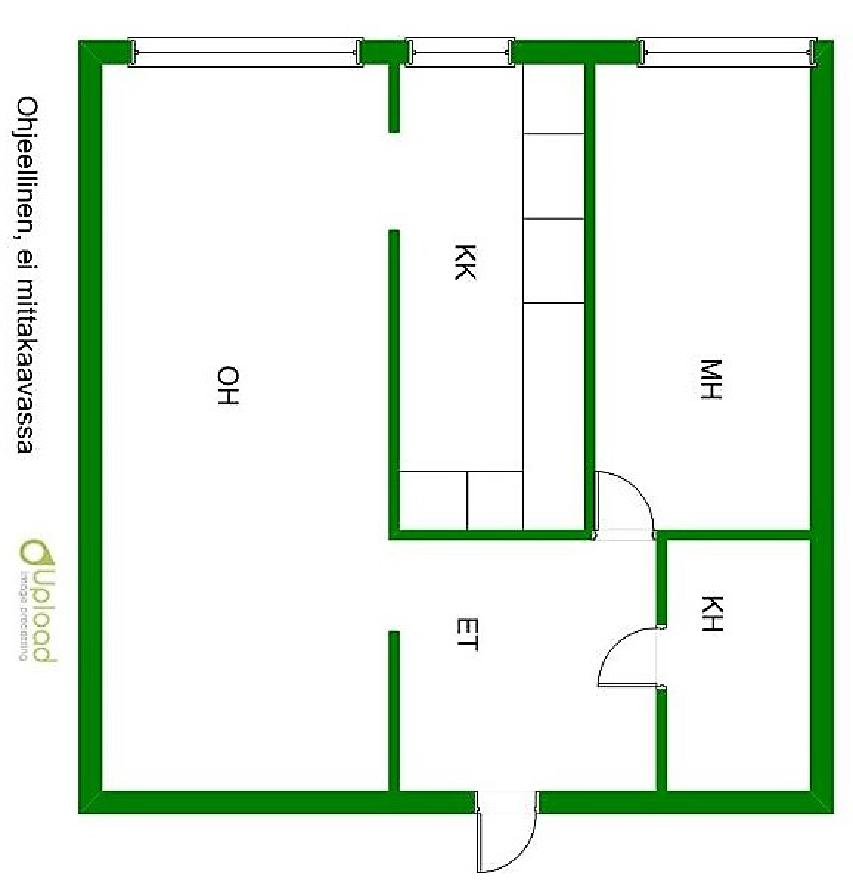door: (104, 63, 655, 792), (594, 62, 814, 528), (668, 540, 809, 790)
window: (477, 788, 541, 877), (593, 622, 668, 696), (594, 471, 653, 543)
zone: (133, 35, 358, 65), (645, 38, 809, 64), (407, 35, 511, 64)
